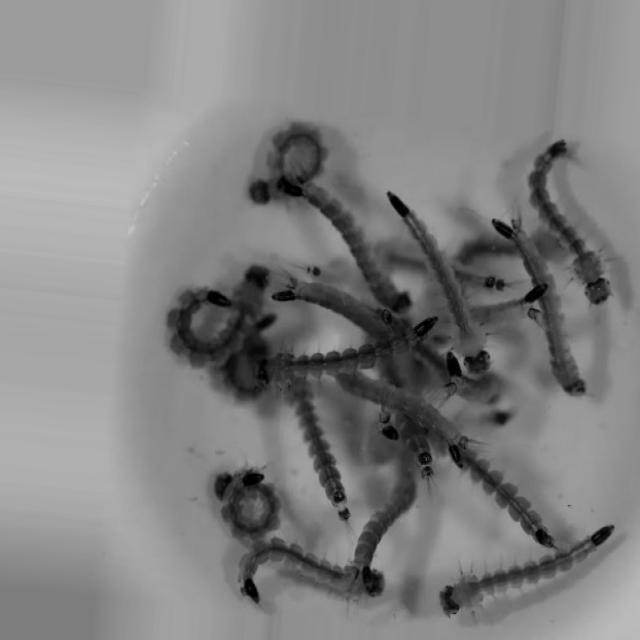larvas: (386, 182, 497, 372), (285, 166, 423, 315), (498, 209, 599, 409), (430, 520, 619, 622), (519, 139, 623, 315), (335, 365, 477, 465), (238, 532, 385, 622), (262, 316, 439, 386), (156, 264, 270, 362), (460, 448, 562, 554), (288, 386, 359, 529), (346, 454, 426, 574), (271, 263, 400, 333), (256, 121, 326, 192), (475, 278, 548, 338), (215, 475, 282, 539), (218, 316, 270, 392), (443, 358, 511, 414), (460, 260, 506, 303)
